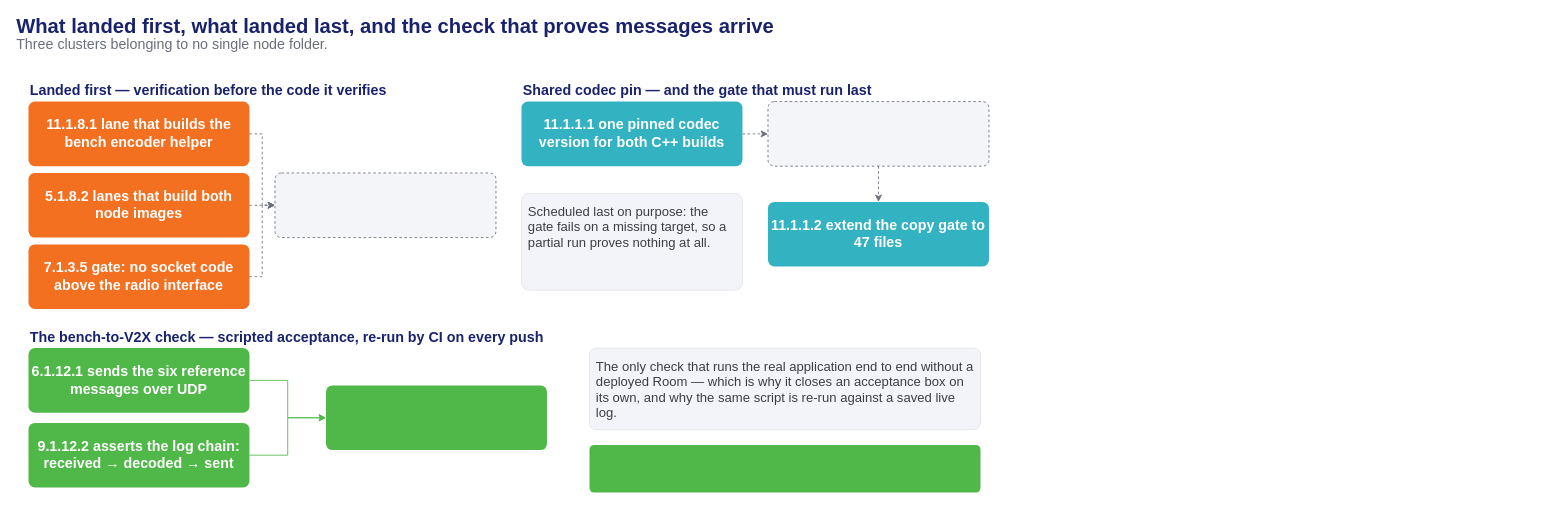
This 1556x507 diagram has some shape labels left out. Here are the shapes that lost their labels. From the top down, the centre of each, then its label:
At (878,133): "11.1.7.1 · 11.1.7.2 the copies it guards".
At (385,205): "their consumers every subtask that lands after them".
At (436,417): "9.1.12.3 the CI lane that runs the app between the two".
At (784,468): "2.1.9.1 the ADA-side listener prints whole message bodies".
